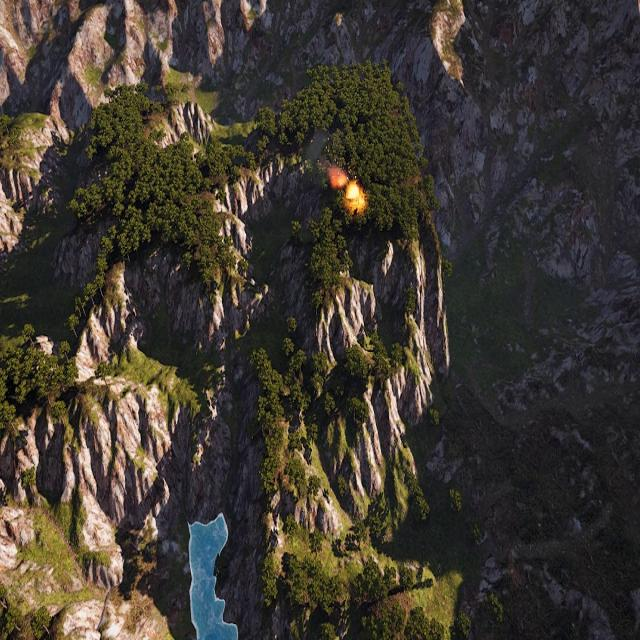fire: (331, 169, 367, 215)
